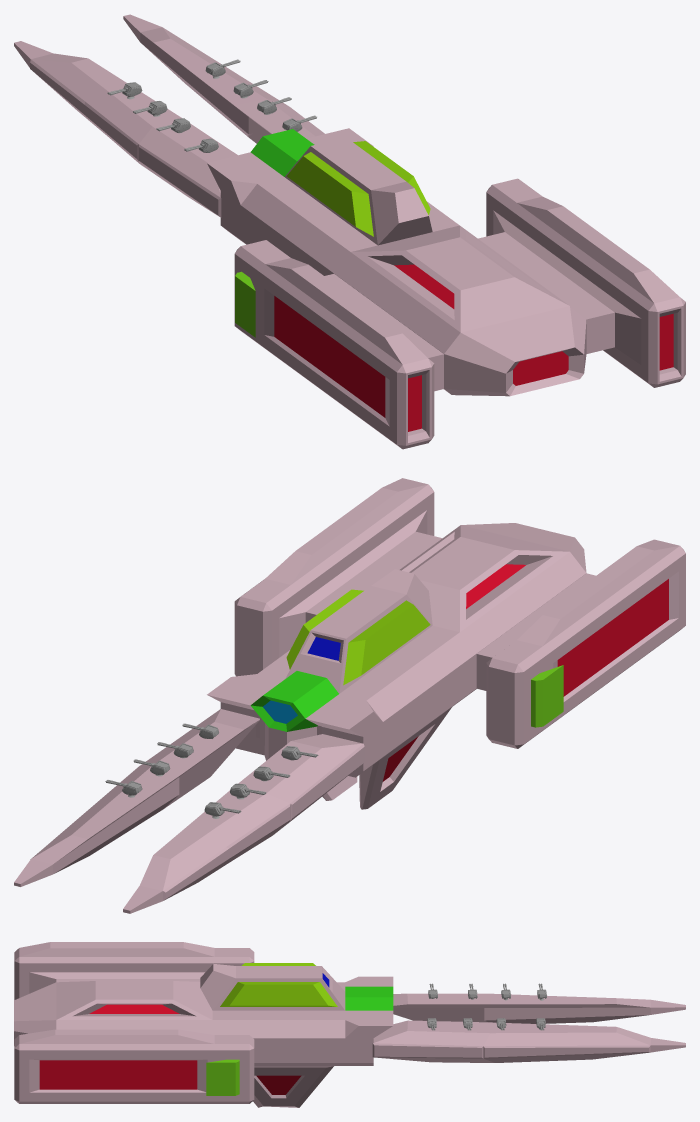
File: Croiseur.dae
3 views of the same model, one above another, from view 1: azimuth 30°, elevation 25°; view 2: azimuth 150°, elevation 25°; view 3: azimuth 270°, elevation 25° (orthographic). The views are drawn at different scales.
Parts seen in each view (by area): view 1: Cube.041_Cube.042 (×5), Cube.080_Cube.081, Cube.079_Cube.080, Cube.078_Cube.079; view 2: Cube.041_Cube.042 (×5), Cube.080_Cube.081, Cube.079_Cube.080, Cube.078_Cube.079; view 3: Cube.041_Cube.042 (×5), Cube.080_Cube.081, Cube.078_Cube.079, Cube.079_Cube.080.
Part boxes in pixels (bbox=[...]): Cube.041_Cube.042 (×5): bbox=[148, 38, 673, 431]; Cube.080_Cube.081: bbox=[14, 14, 324, 216]; Cube.079_Cube.080: bbox=[234, 246, 434, 449]; Cube.078_Cube.079: bbox=[486, 183, 685, 387]; Cube.041_Cube.042 (×5): bbox=[60, 523, 668, 859]; Cube.080_Cube.081: bbox=[14, 709, 364, 913]; Cube.079_Cube.080: bbox=[486, 539, 685, 748]; Cube.078_Cube.079: bbox=[234, 478, 434, 676]; Cube.041_Cube.042 (×5): bbox=[14, 948, 490, 1107]; Cube.080_Cube.081: bbox=[373, 993, 685, 1062]; Cube.078_Cube.079: bbox=[14, 1029, 254, 1103]; Cube.079_Cube.080: bbox=[14, 942, 254, 999].
Size of the model in its own units: 24.37 by 14.32 by 64.83.
